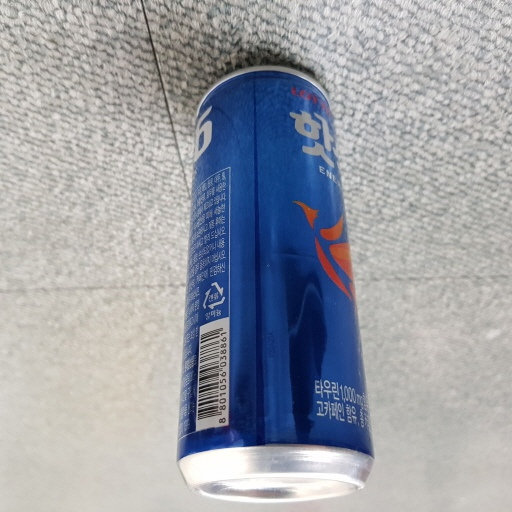Metal_0: (158, 64, 378, 501)
